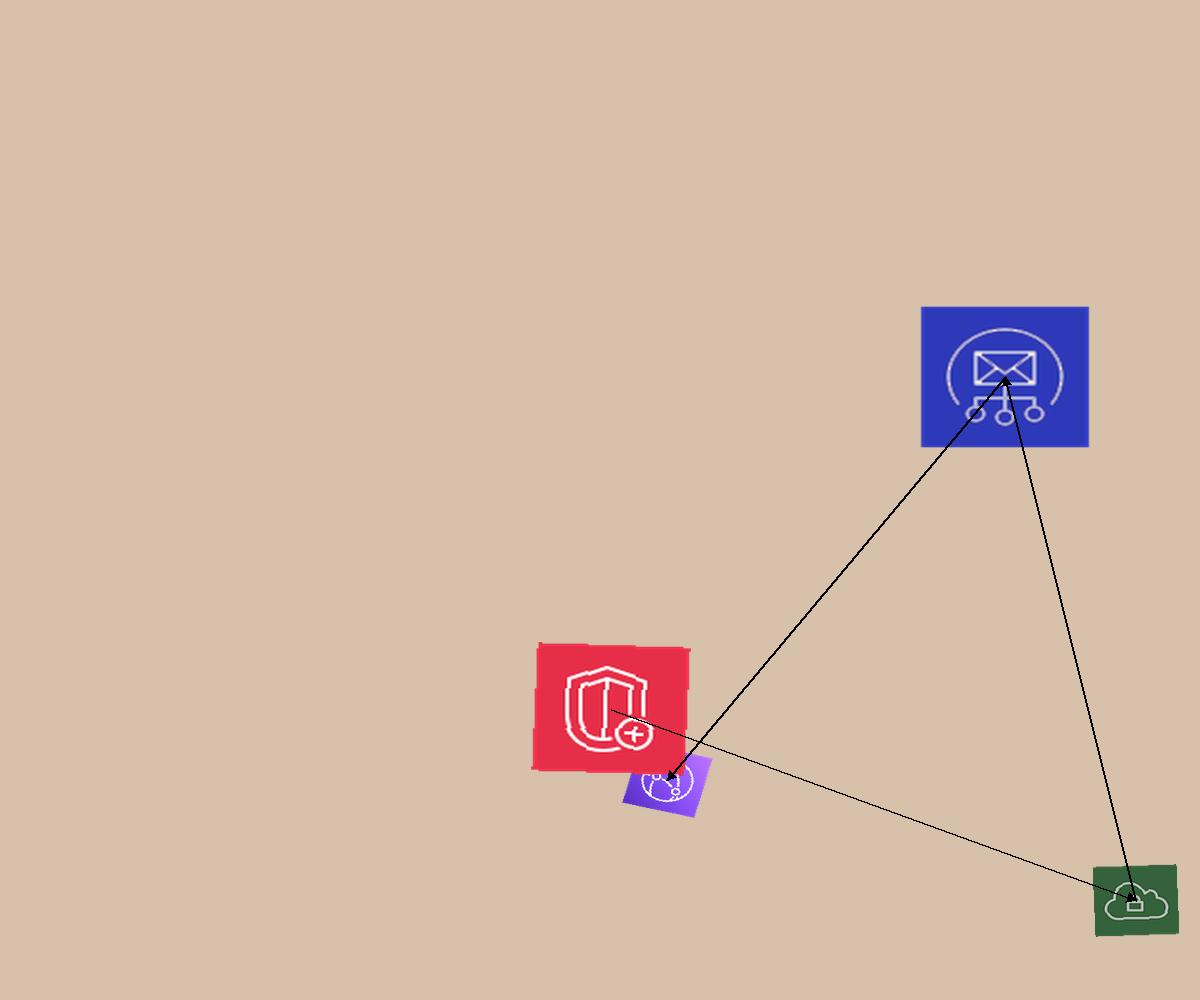AWS-CloudFront: (622, 743, 713, 818)
AWS-Private_vpc: (1092, 864, 1180, 937)
AWS-Shield: (531, 642, 691, 776)
AWS-Simple-Email-Service: (919, 305, 1091, 449)
